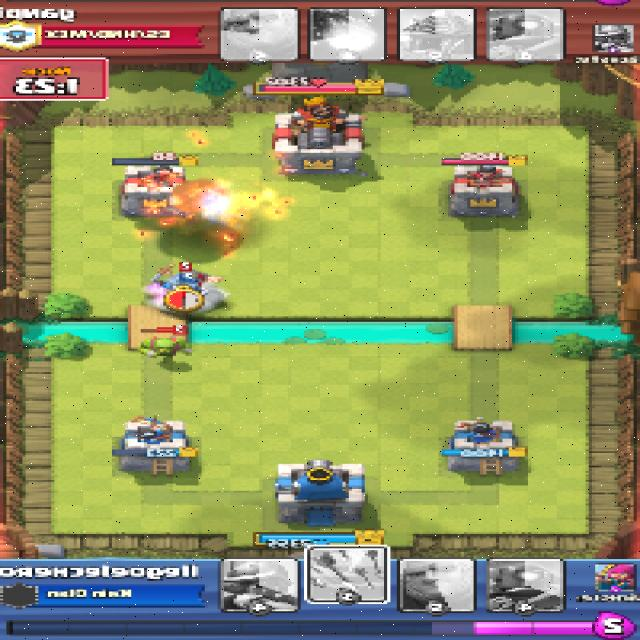Enemy-Knight: (163, 270, 214, 287)
Player-Fireball: (158, 185, 276, 241)
Player-GoblinCage: (140, 336, 190, 359)
